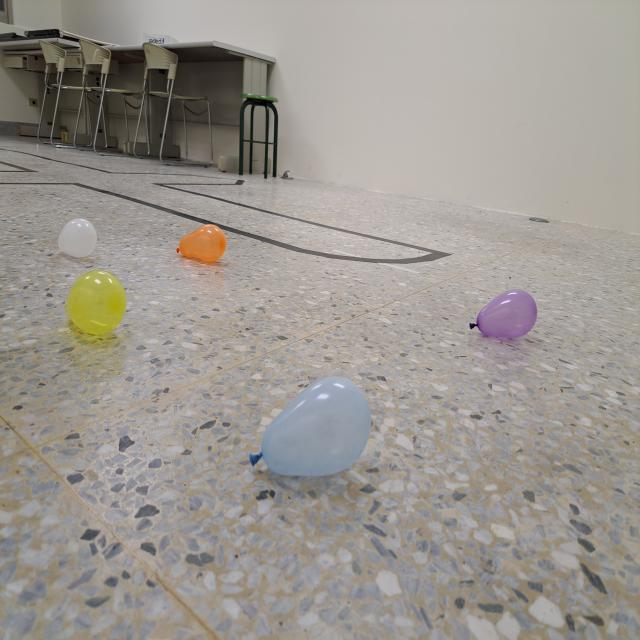other: (248, 377, 372, 479), (66, 269, 128, 335), (470, 288, 538, 340), (175, 224, 228, 262), (56, 219, 98, 259)
